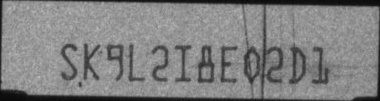1: (310, 44, 329, 85)
2: (266, 44, 285, 83), (150, 44, 169, 82)
8: (197, 44, 215, 83)
9: (106, 42, 124, 82)
D: (288, 44, 306, 83)
E: (220, 43, 238, 82)
I: (174, 42, 192, 82)
K: (81, 42, 98, 79)
L: (128, 44, 146, 82)
O: (243, 45, 260, 84)
S: (60, 42, 79, 80)
